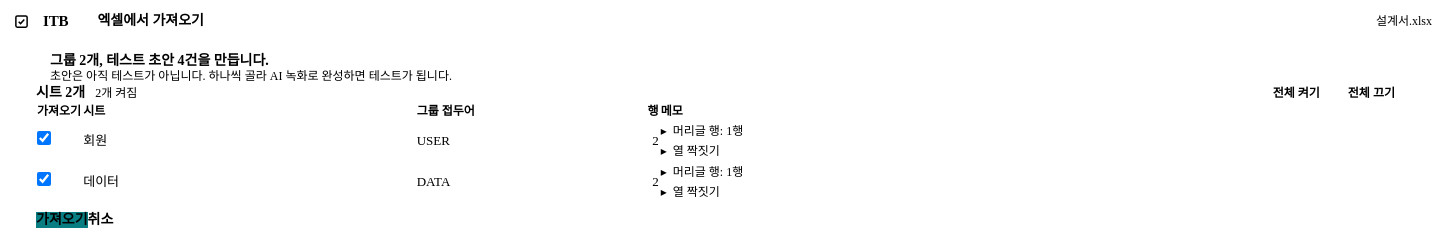
Scenario: 시트 200개 — 한 번에 켜고 끈다 › 전체 끄기가 전부 끈다 — 그러면 확정이 막히고 왜인지 말한다
Click the button "전체 끄기".
click(1371, 93)  # box top-left (1339, 86), bottom-right (1404, 100)
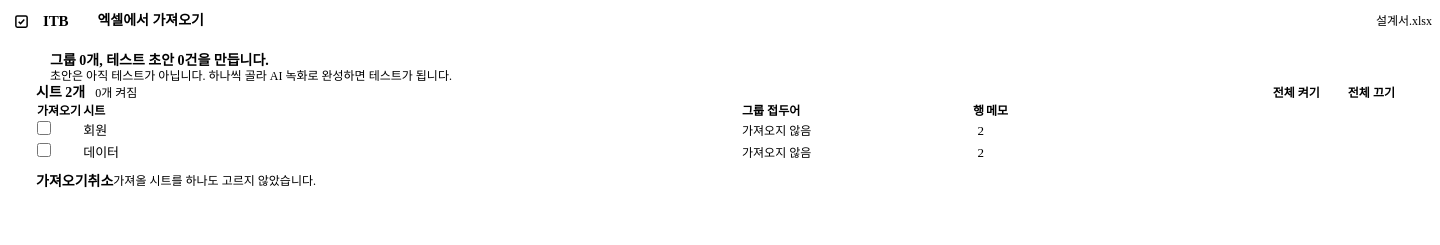
Now the text "가져올 시트를 하나도 고르지 않았습니다." is shown, box top-left (113, 173), bottom-right (316, 190)
Now the button "가져오기" is disabled, box top-left (36, 174), bottom-right (88, 190)
